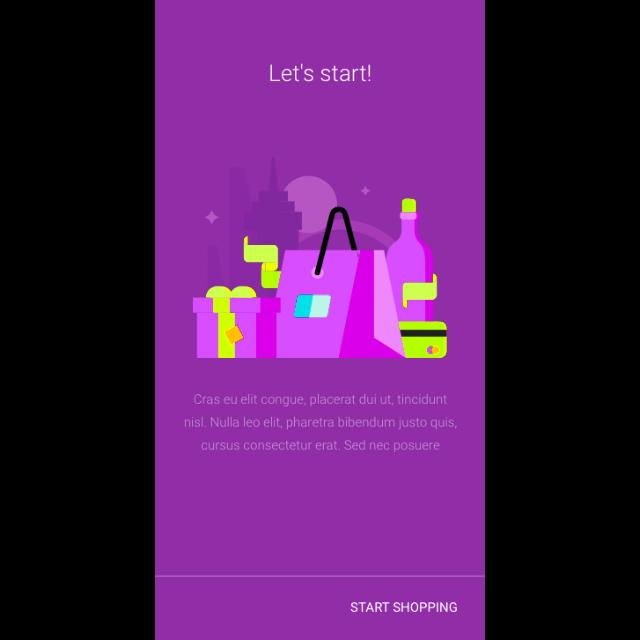image: (194, 158, 448, 358)
text: (186, 393, 458, 452), (270, 64, 372, 82), (350, 602, 458, 612)
